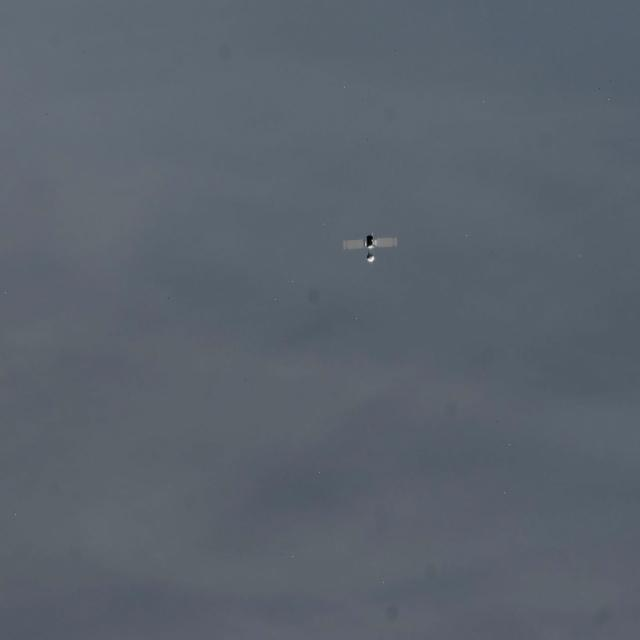satellite: (343, 227, 400, 271)
